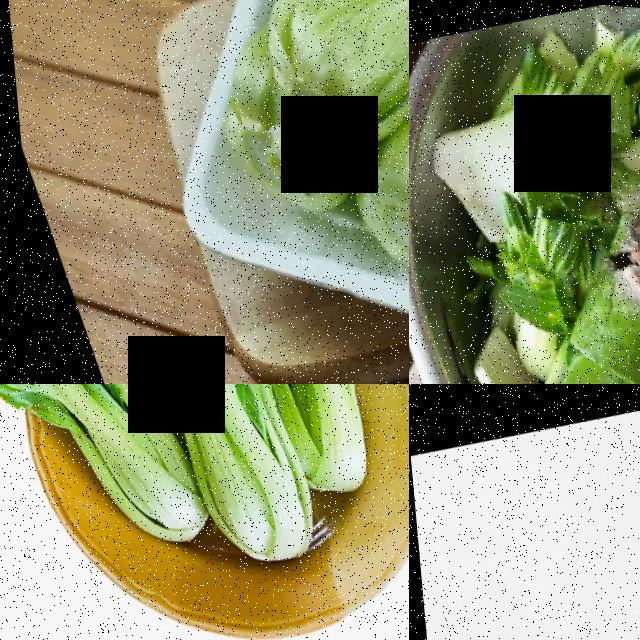bok choy: (108, 384, 366, 585), (0, 384, 204, 574), (215, 0, 409, 95), (242, 384, 409, 493), (482, 541, 640, 640)
